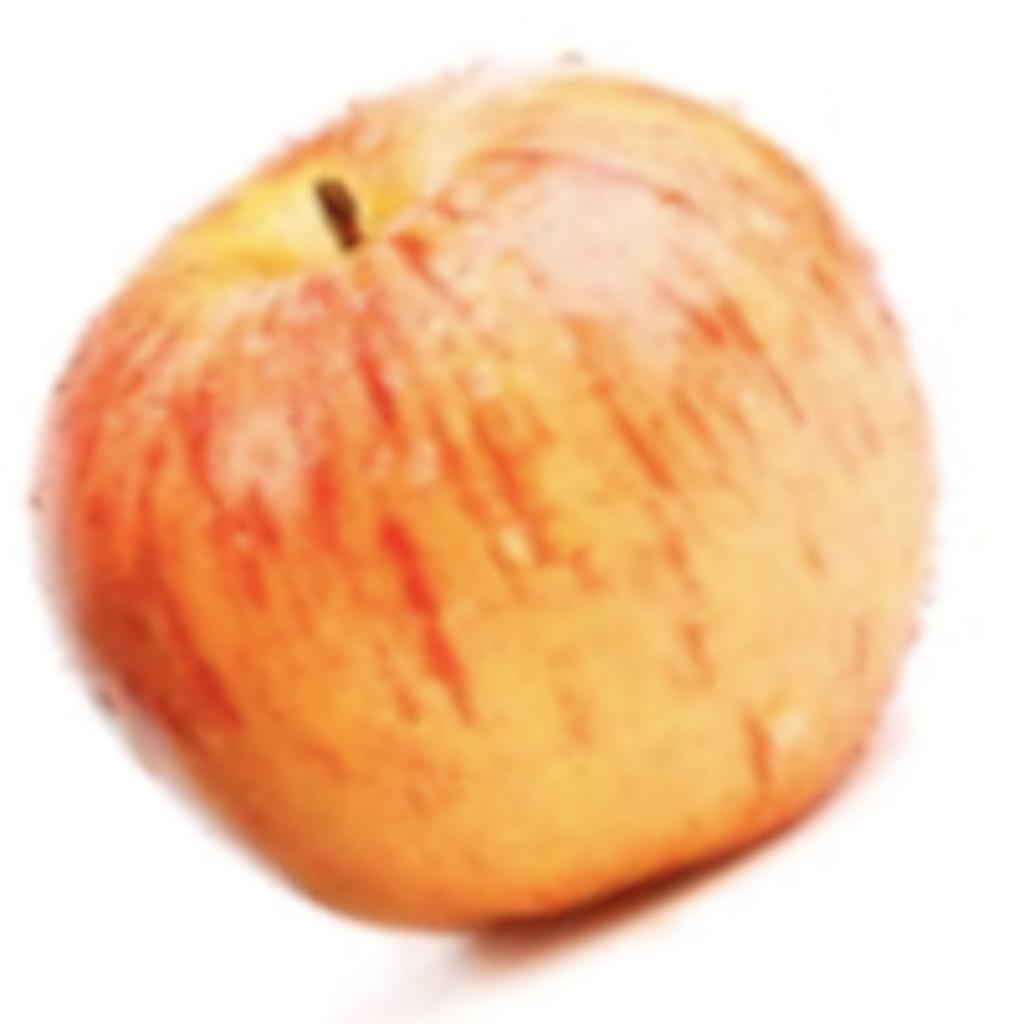apple: (5, 41, 952, 1019)
